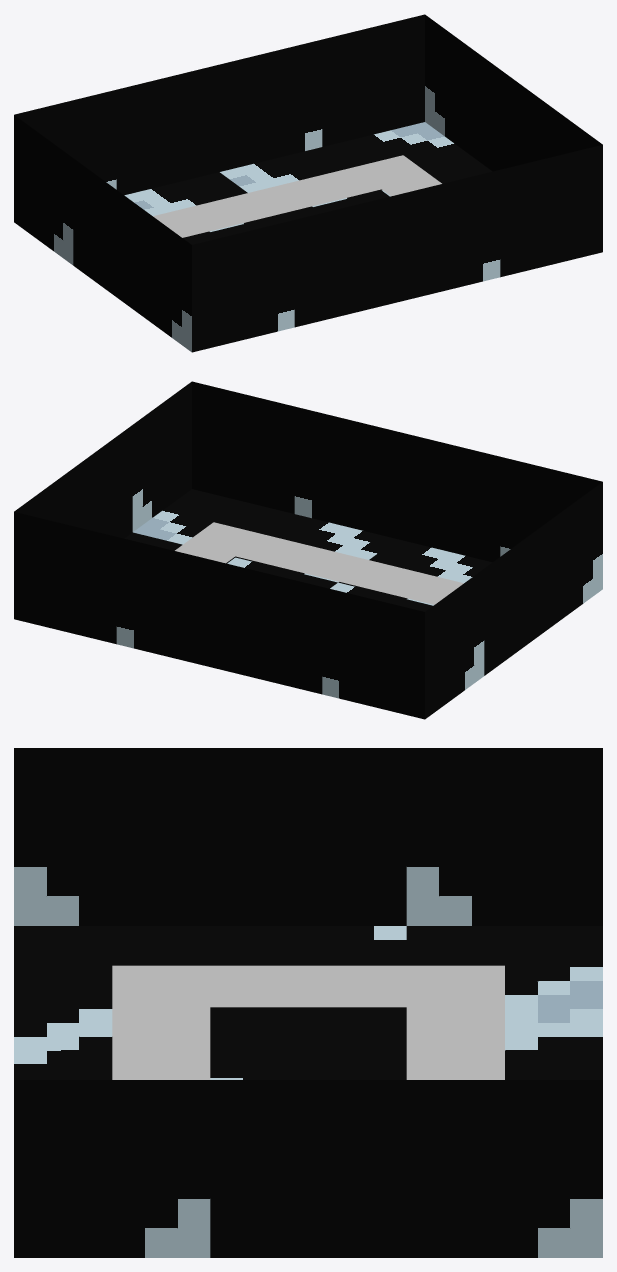
The model's file is start_cinematic_ship.gltf.
3 views of the same model, one above another, from view 1: azimuth 30°, elevation 25°; view 2: azimuth 150°, elevation 25°; view 3: azimuth 270°, elevation 25° (orthographic). The views are drawn at different scales.
Bounding box in the file's own units: 16 × 4 × 12.
